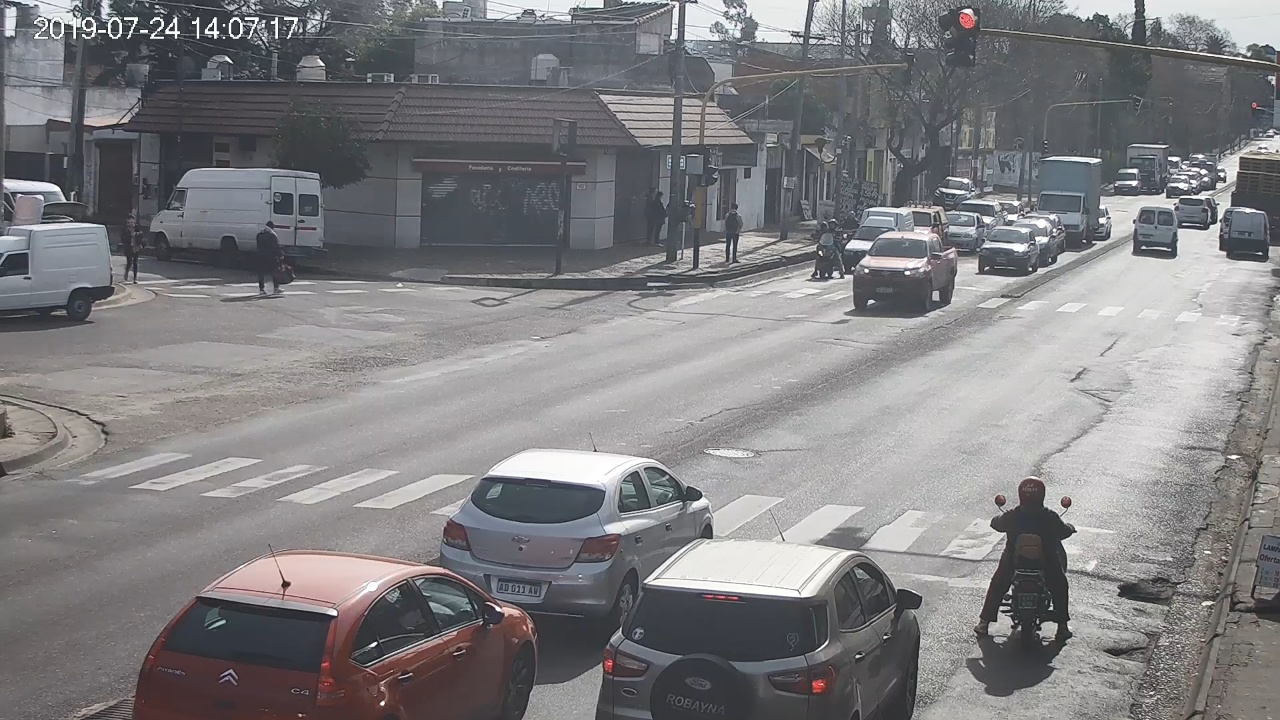car: (133, 549, 537, 720), (595, 538, 924, 720), (1133, 206, 1178, 255)
motorcycle: (975, 494, 1076, 639)
traffic light: (958, 6, 979, 66)
